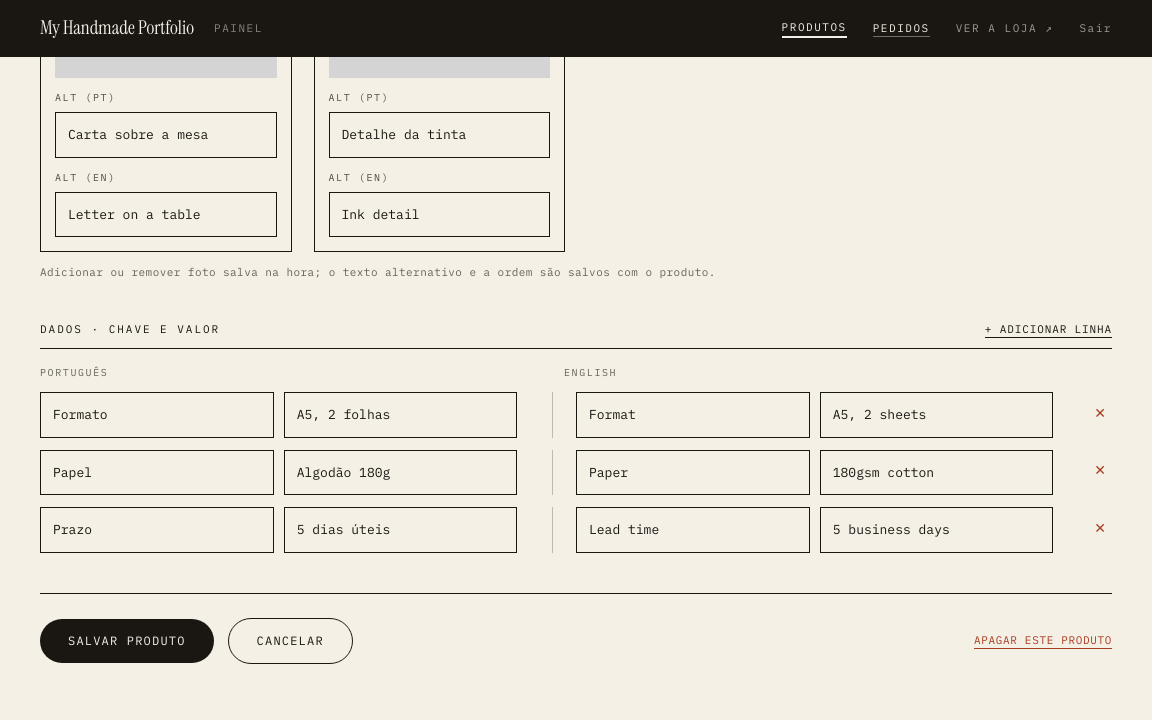
Test case: ProductFormRoute › seeds the form from the admin list and PUTs every photo key back exactly once
(page scrolled)
What coordinates should you click on to do the following:
click the button "Salvar produto"
I would click on:
 (127, 641)
Its box is [40,619,214,663].
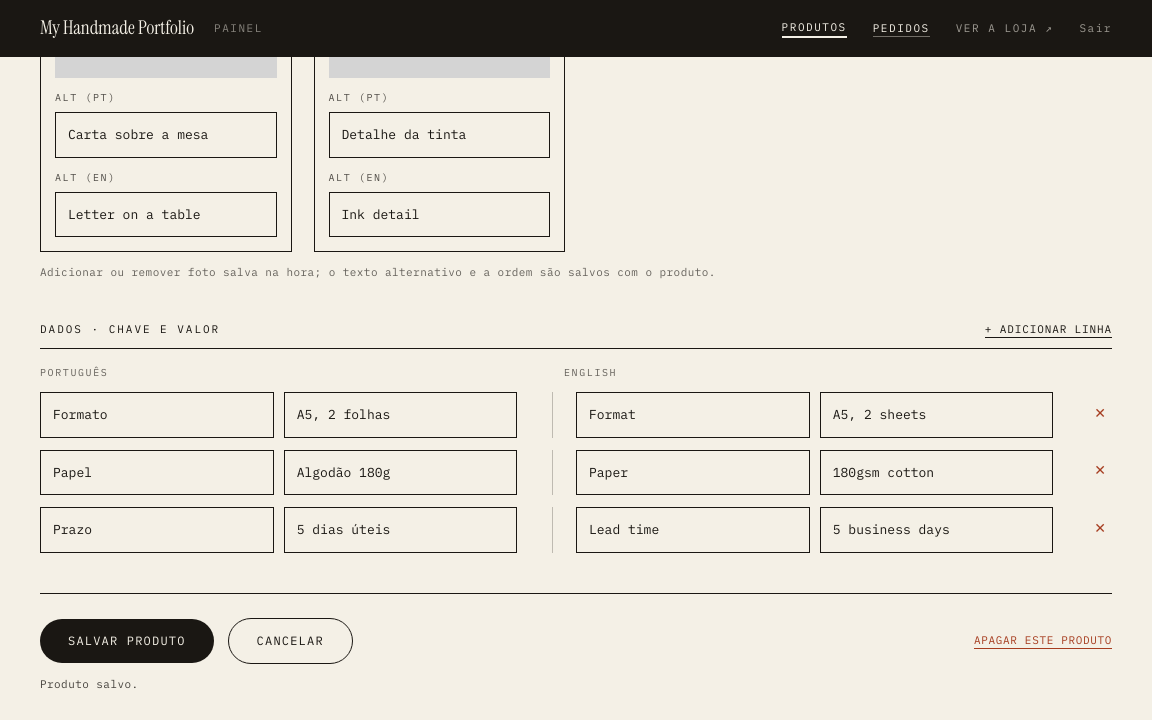
Now the text "Produto salvo." is shown, box [40,677,139,691]
